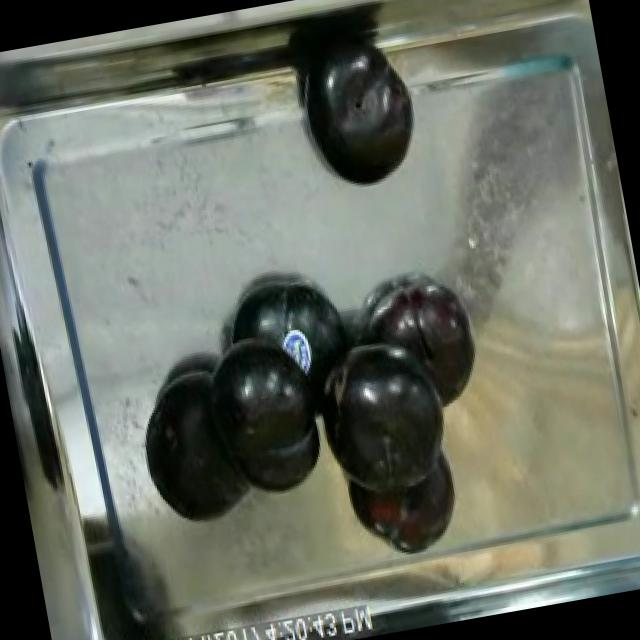Fruit: (181, 462, 347, 628), (124, 353, 262, 538), (289, 42, 434, 203), (320, 352, 462, 515), (386, 266, 491, 405)
